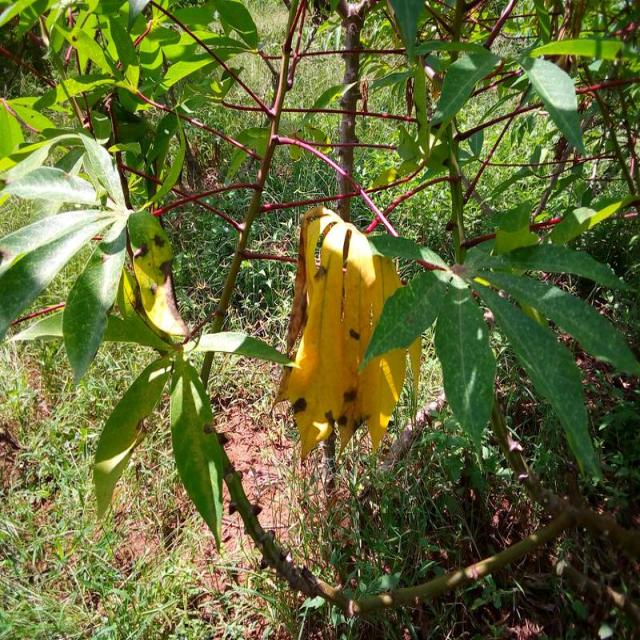cassava leaf: (272, 204, 422, 464), (168, 358, 223, 550), (516, 51, 586, 156)
